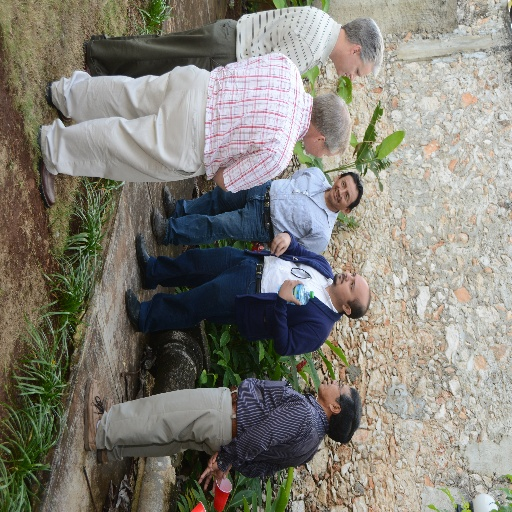hand: (198, 460, 223, 493), (207, 449, 232, 478), (276, 277, 301, 302), (270, 231, 289, 254)
